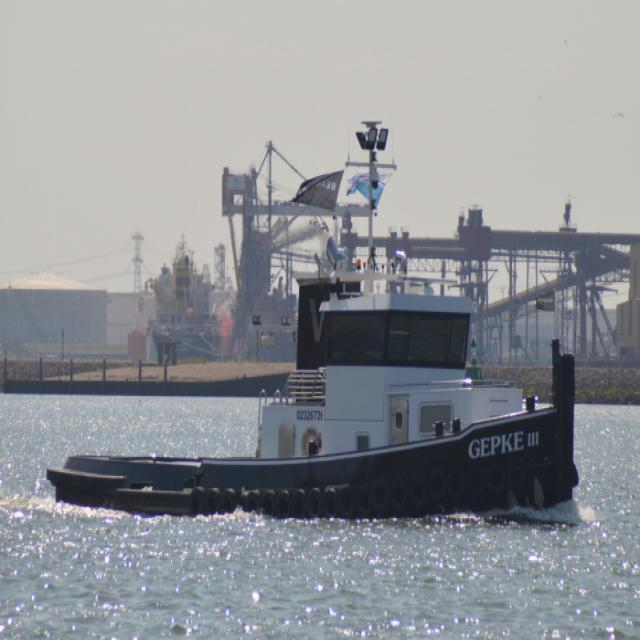tugboat: (42, 115, 586, 550)
